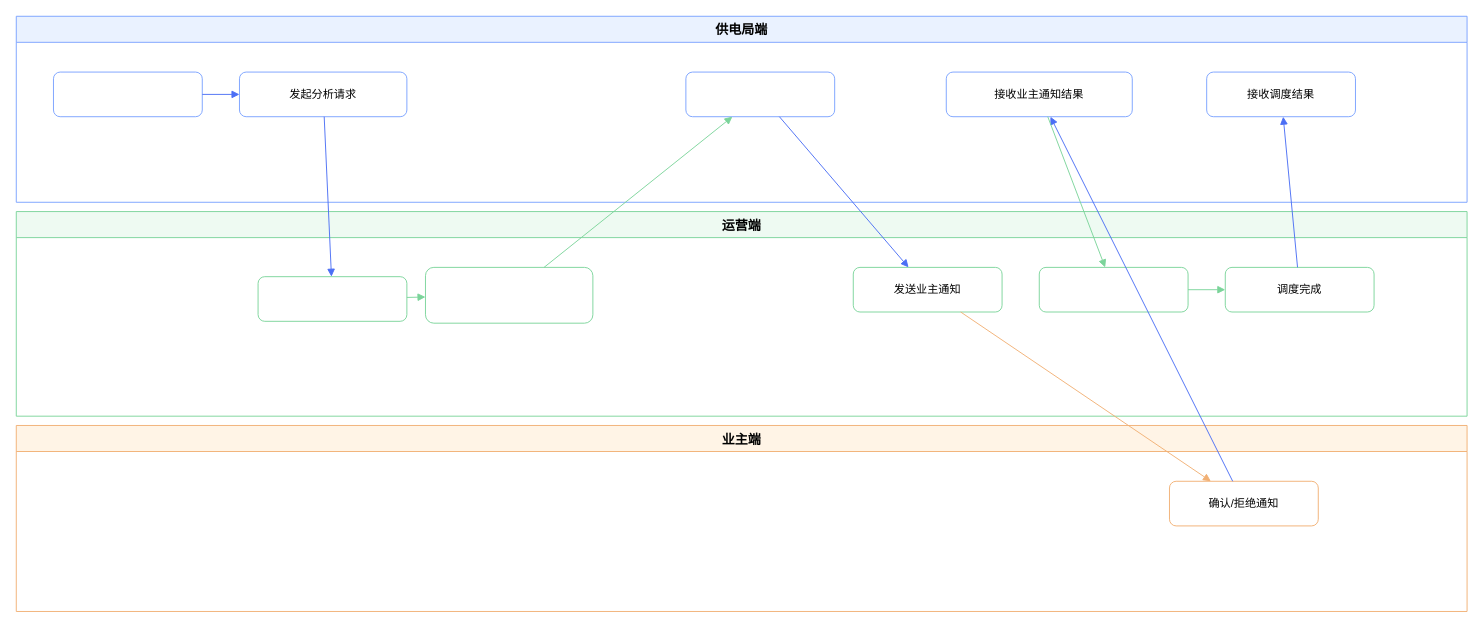
This 1483x628 diagram has some shape labels left out. The shapes that lost their labels are listed below. From the top down, each one's centre as x and y in pixels, then its label:
At point (127, 94): "上传4类Excel".
At point (760, 94): "确认调度".
At point (332, 298): "接收请求".
At point (509, 294): "分析生成报告".
At point (1113, 289): "开始调度".
